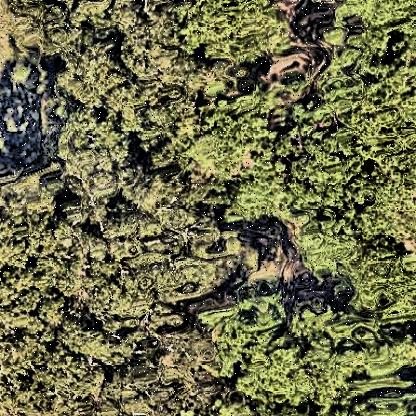tree-top: (211, 290, 416, 410), (172, 99, 282, 175), (170, 2, 300, 64), (352, 242, 416, 323), (224, 172, 288, 228)
